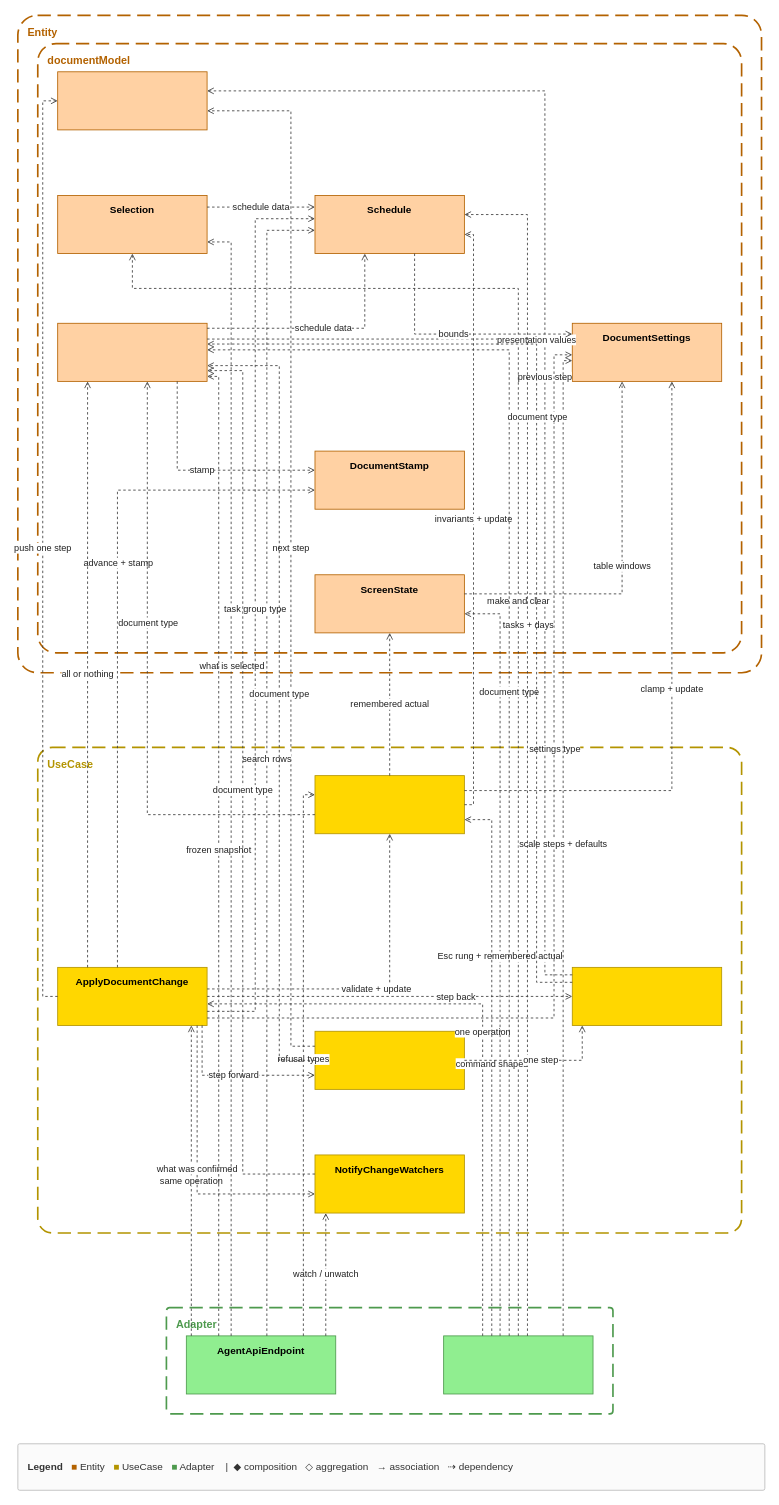
Image size: 779x1505. Some labels were removed from this diagram. The centre of each missing label's shape, as x and y in pixels:
Document: the point at 132,351
EditDocument: the point at 389,804
EditHistory: the point at 132,100
InputCommandTranslator: the point at 518,1364
RedoEdit: the point at 389,1059
UndoEdit: the point at 646,996
